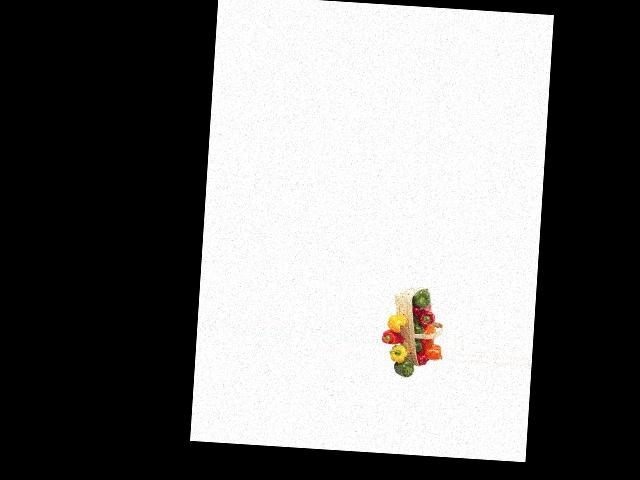bell_pepper: (413, 289, 431, 310)
